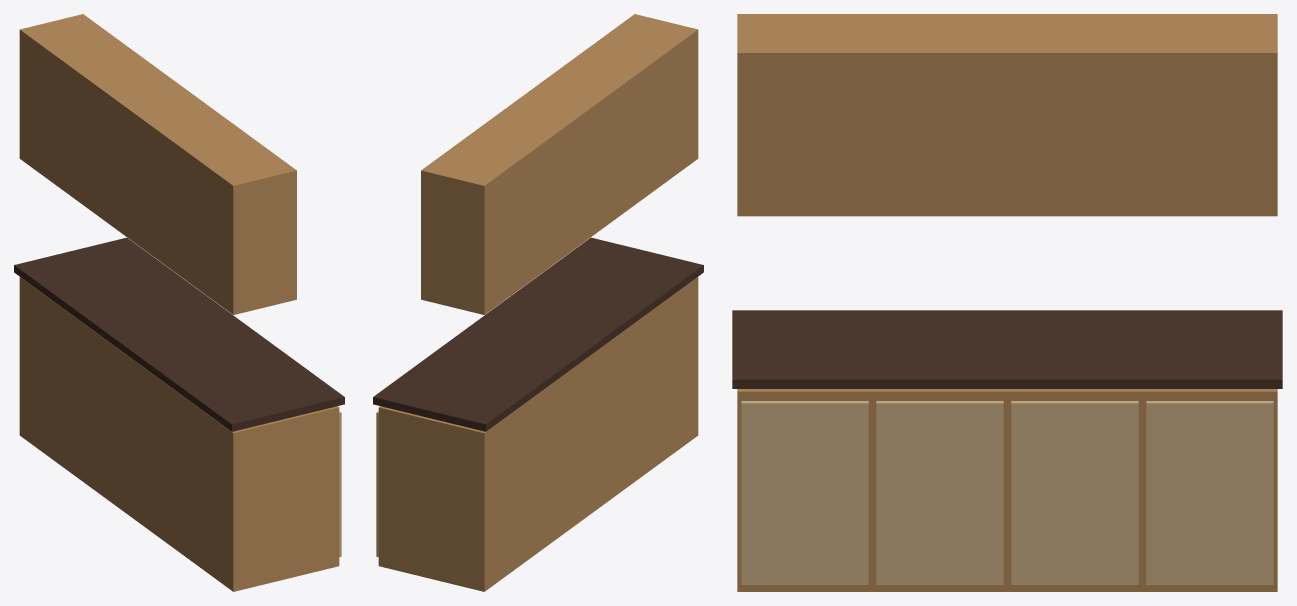
3 renders of one model, left to right at view 1: azimuth 30°, elevation 25°; view 2: azimuth 150°, elevation 25°; view 3: azimuth 270°, elevation 25°, orthographic. The views are drawn at different scales.
Parts seen in each view (by area): view 1: mueble_cocina_oeste; view 2: mueble_cocina_oeste; view 3: mueble_cocina_oeste.
Boxes of the visible parts, <box> form: mueble_cocina_oeste: <box>14,14,344,591</box>; mueble_cocina_oeste: <box>373,14,703,591</box>; mueble_cocina_oeste: <box>732,14,1282,591</box>.
Bounding box in the file's own units: 0.642 × 2.14 × 2.2.
